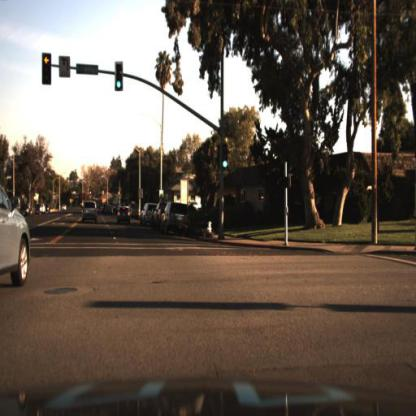car: (1, 164, 33, 346), (2, 176, 33, 297), (160, 200, 193, 240), (152, 199, 167, 231), (82, 198, 99, 223), (115, 204, 133, 226), (139, 201, 153, 229), (117, 206, 134, 228), (153, 202, 165, 233)
trafficLight-Green: (115, 62, 125, 94), (220, 156, 231, 177), (220, 146, 230, 169), (113, 78, 125, 96)
trafficLight-RedLeft: (43, 52, 55, 83), (43, 51, 52, 87)
